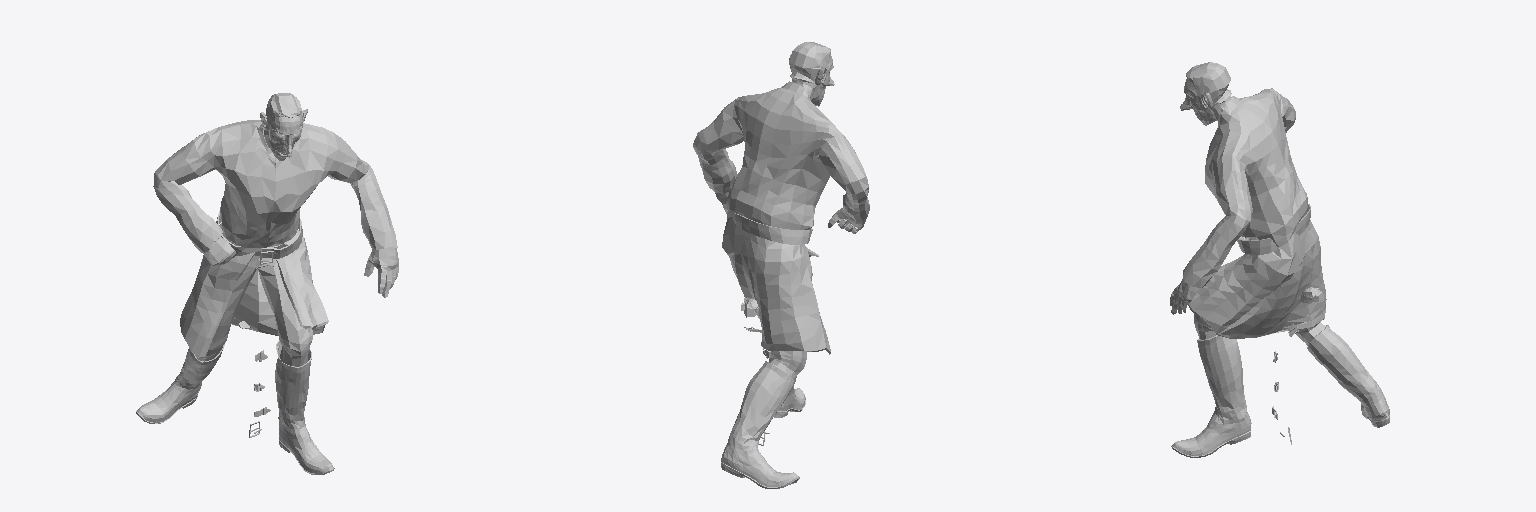
File: sniper-inj-walk_joined_000005.obj
3 views of the same model, side by side, from view 1: azimuth 30°, elevation 25°; view 2: azimuth 150°, elevation 25°; view 3: azimuth 270°, elevation 25° (orthographic).
Parts seen in each view (by area): view 1: Shoes; view 2: Shoes; view 3: Shoes.
Part boxes in pixels (left/top/right/bottom): Shoes: left=136, top=93, right=398, bottom=474; Shoes: left=693, top=42, right=869, bottom=488; Shoes: left=1170, top=62, right=1389, bottom=457.
Size of the model in its own units: 1.31 by 2.37 by 1.26.